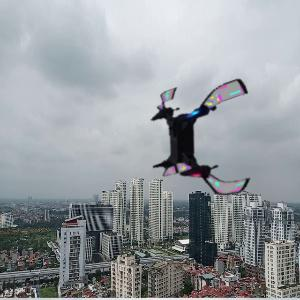drone: (142, 79, 269, 206)
